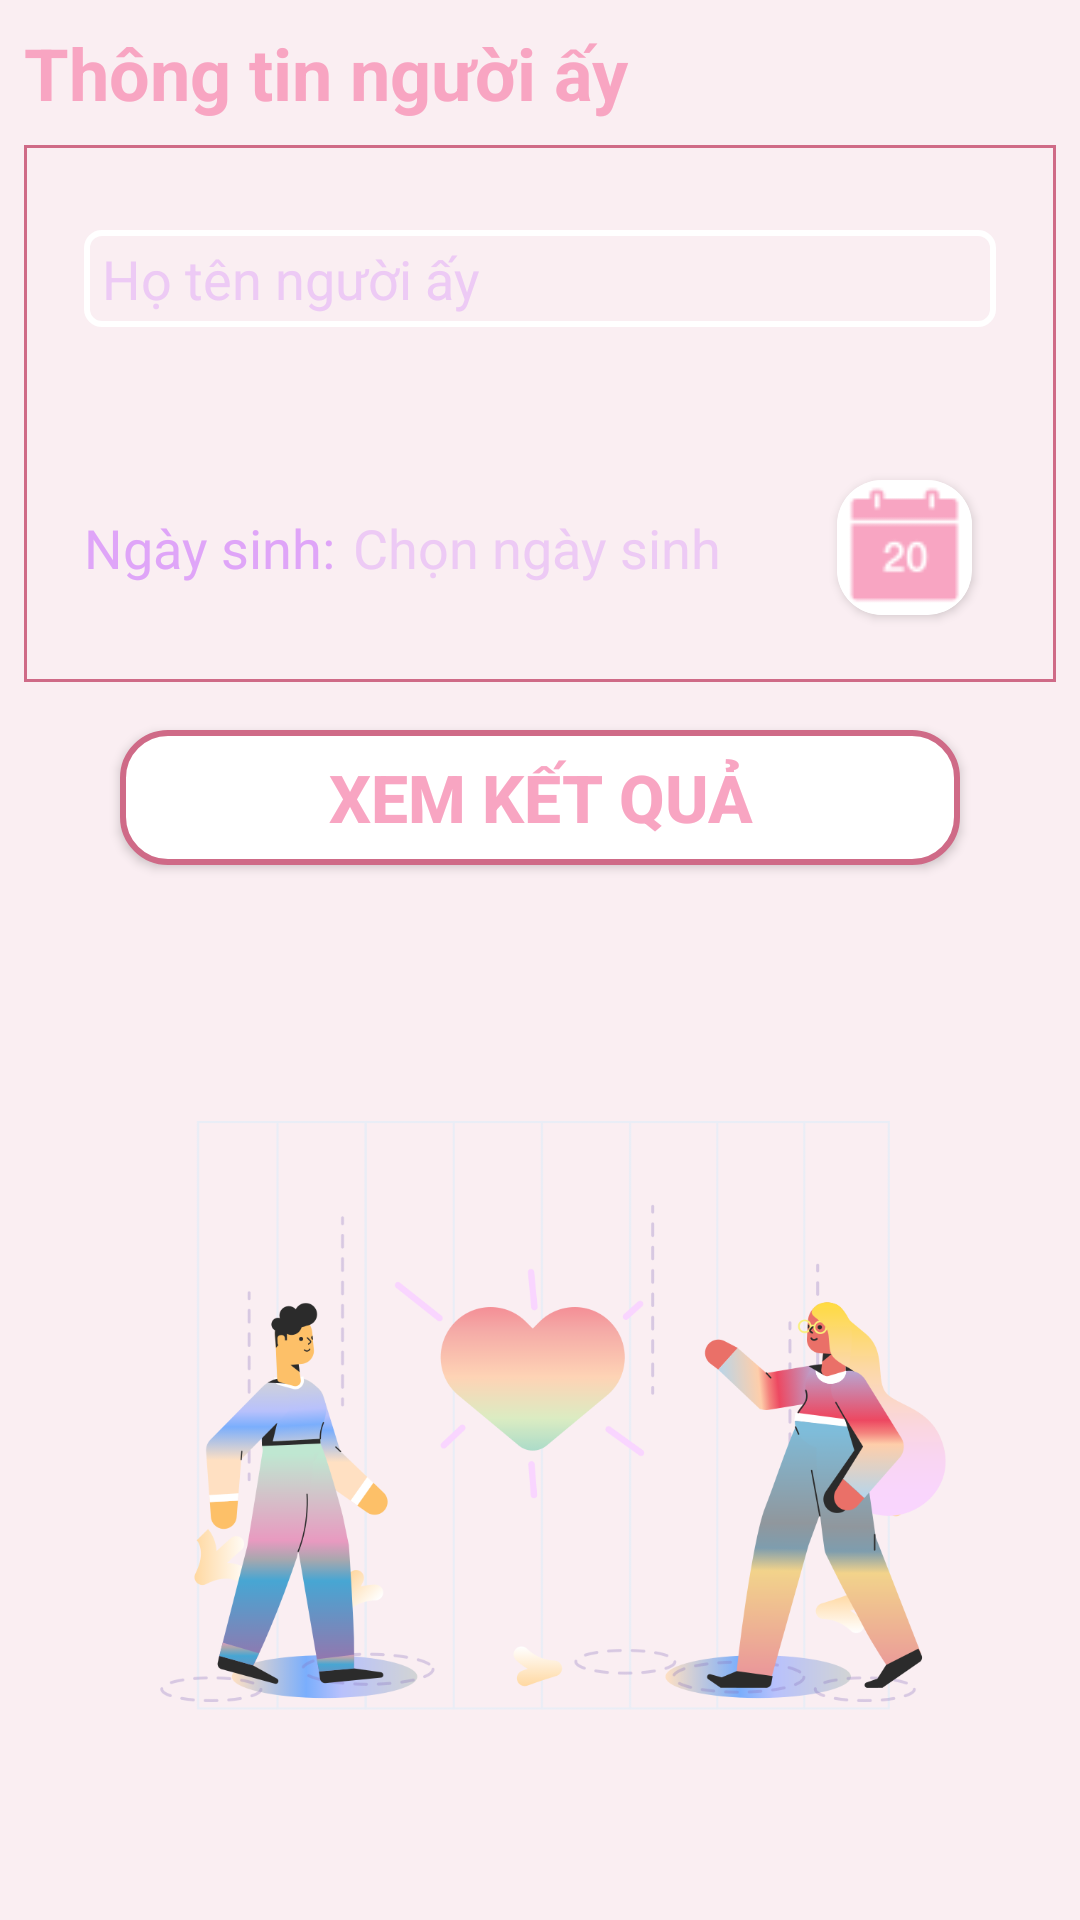

Icon bounding boxes for this 1080*1920 phone screenshot, format detection(x1, y1, x2, y2):
calendar: detection(851, 490, 972, 615)
